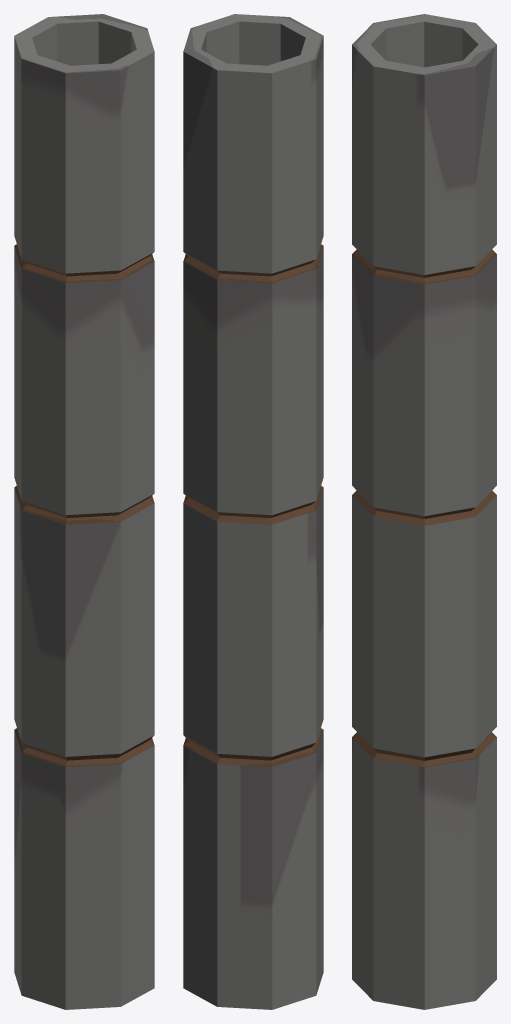
File: SM_Prop_Pipe_Concrete_02.obj
3 views of the same model, side by side, from view 1: azimuth 30°, elevation 25°; view 2: azimuth 150°, elevation 25°; view 3: azimuth 270°, elevation 25° (orthographic).
Visible parts, largest first — view 1: SM_Prop_Pipe_Concrete_02_0; view 2: SM_Prop_Pipe_Concrete_02_0; view 3: SM_Prop_Pipe_Concrete_02_0.
Boxes of the visible parts, bbox=[...] form: SM_Prop_Pipe_Concrete_02_0: bbox=[14, 14, 154, 1009]; SM_Prop_Pipe_Concrete_02_0: bbox=[183, 14, 323, 1009]; SM_Prop_Pipe_Concrete_02_0: bbox=[352, 14, 496, 1009].
Size of the model in its own units: 0.6439 by 4.58 by 0.6439.
1 material, 1 textured.
